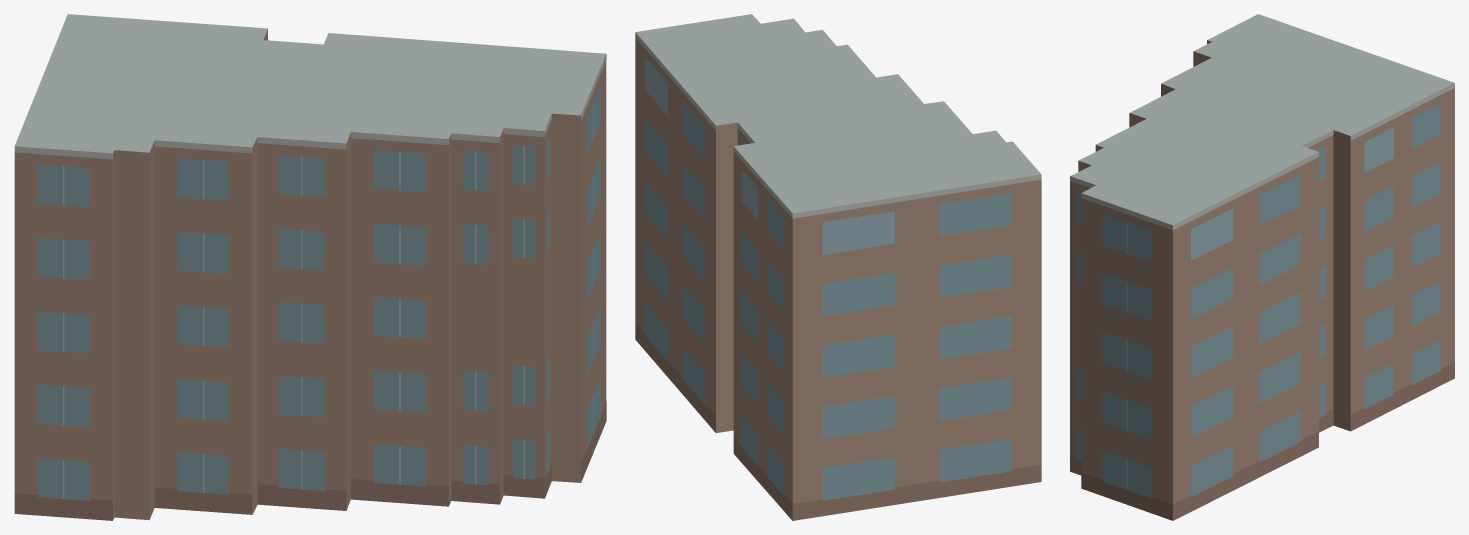
File: survey-upis-32916766.glb
The picture shows the model from 3 angles, left to right: view 1: azimuth 30°, elevation 25°; view 2: azimuth 150°, elevation 25°; view 3: azimuth 270°, elevation 25°; orthographic projection. The views are drawn at different scales.
Visible parts, largest first — view 1: survey-upis-32916766.tmp; view 2: survey-upis-32916766.tmp; view 3: survey-upis-32916766.tmp.
Boxes of the visible parts, x1=… form: survey-upis-32916766.tmp: x1=14, y1=14, x2=606, y2=520; survey-upis-32916766.tmp: x1=635, y1=14, x2=1041, y2=520; survey-upis-32916766.tmp: x1=1070, y1=14, x2=1454, y2=520.
Bounding box in the file's own units: 22.56 × 14.7 × 17.36.
